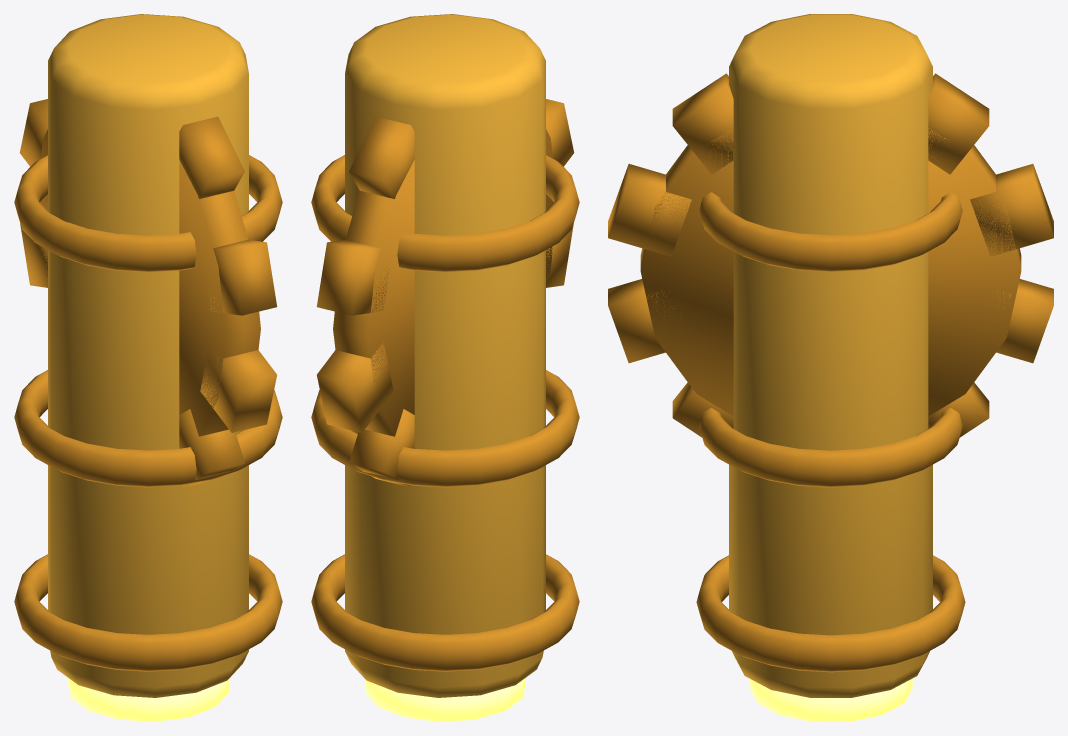
File: weapon_mecanico_lendaria.glb
3 views of the same model, side by side, from view 1: azimuth 30°, elevation 25°; view 2: azimuth 150°, elevation 25°; view 3: azimuth 270°, elevation 25° (orthographic).
Parts seen in each view (by area): view 1: weapon_mecanico_lendaria; view 2: weapon_mecanico_lendaria; view 3: weapon_mecanico_lendaria.
Boxes of the visible parts, bbox=[...] form: weapon_mecanico_lendaria: bbox=[14, 14, 282, 721]; weapon_mecanico_lendaria: bbox=[311, 14, 579, 721]; weapon_mecanico_lendaria: bbox=[608, 14, 1053, 721].
Bounding box in the file's own units: 0.396 × 1.04 × 0.6561.
